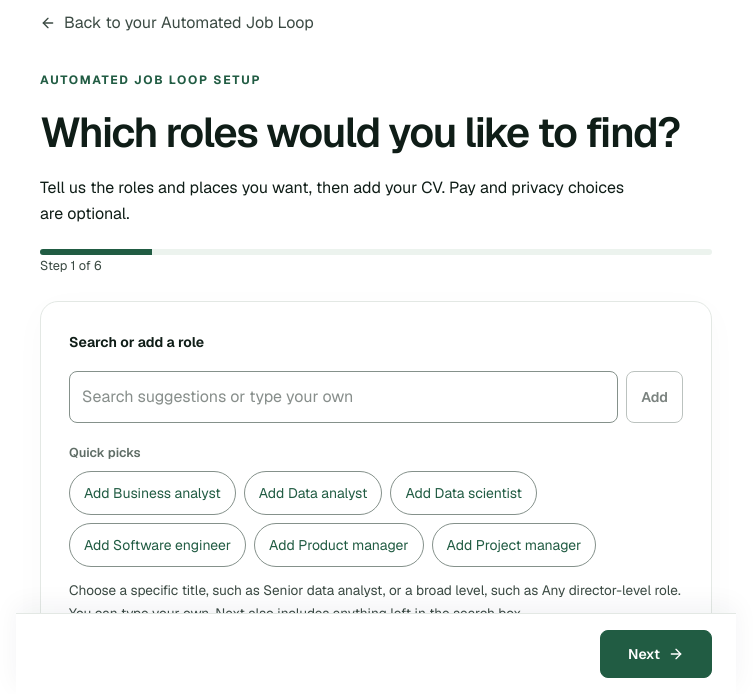
Test: Roles step: one-tap choices › Next without any choice still asks for a role, and the quick picks do not choose one for the person
Click the button "Next" at [656, 654], box x1=600 y1=630 x2=712 y2=678
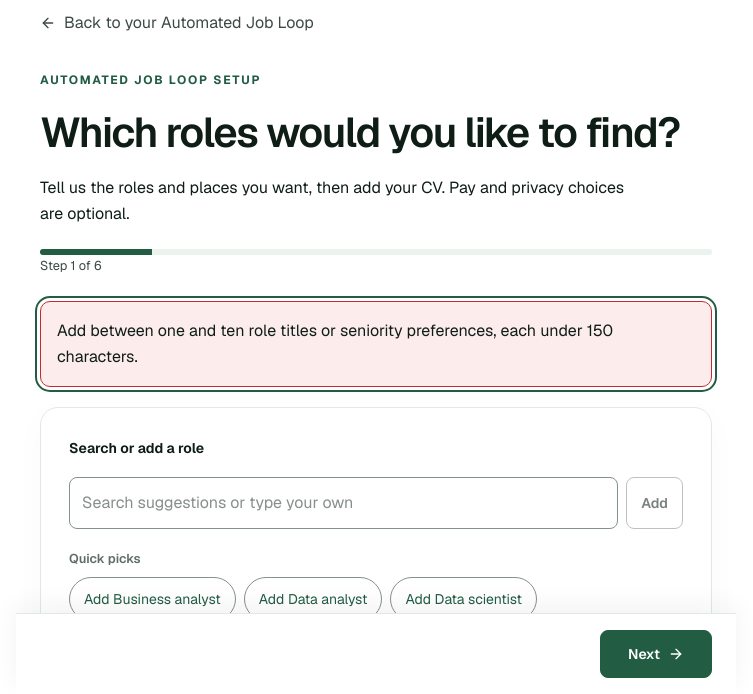
Expected: the message shows "Add between one and ten role titles", x1=57 y1=320 x2=613 y2=366
